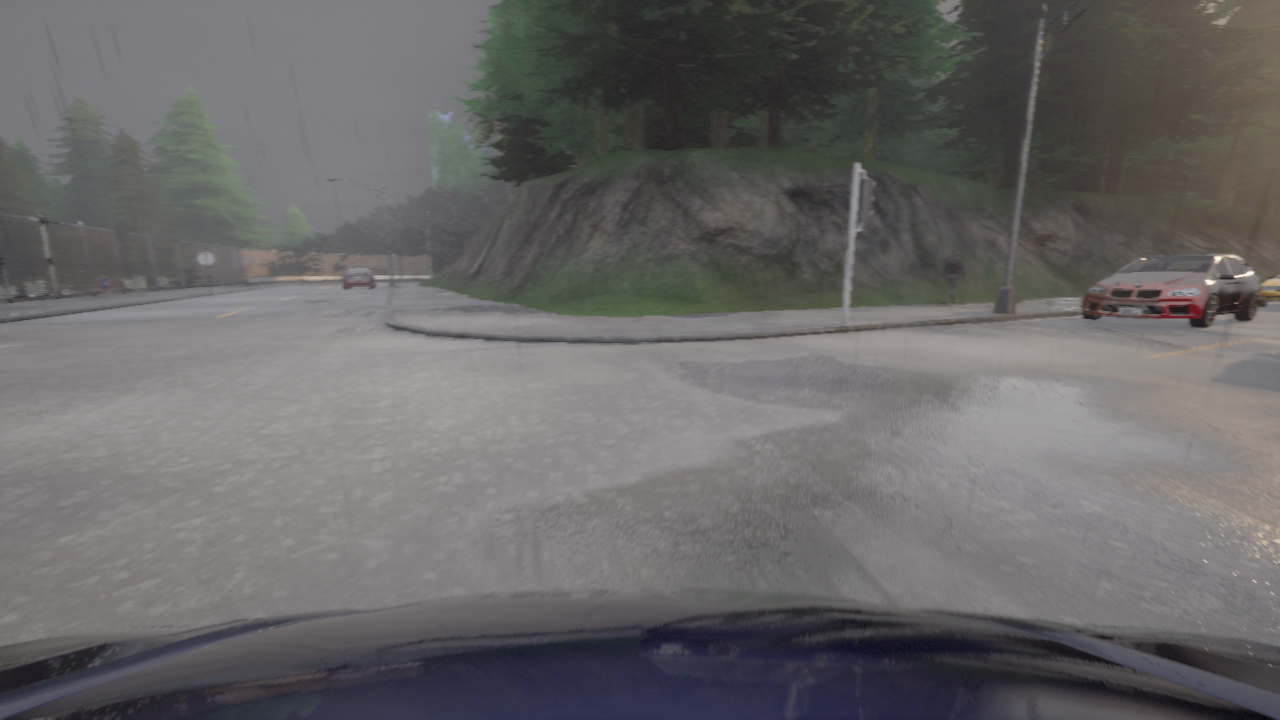cyclist: (0, 588, 1279, 719), (1081, 253, 1258, 327), (342, 268, 375, 288), (1259, 275, 1279, 306)
pedestrian: (940, 251, 966, 305), (98, 272, 109, 297)
